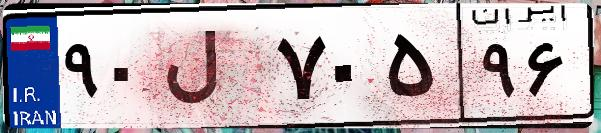0: (330, 28, 385, 110), (110, 28, 158, 98)
5: (385, 28, 445, 110)
6: (525, 38, 570, 115)
7: (270, 28, 330, 110)
9: (57, 26, 110, 100), (475, 38, 525, 113)
ل: (158, 20, 270, 120)
